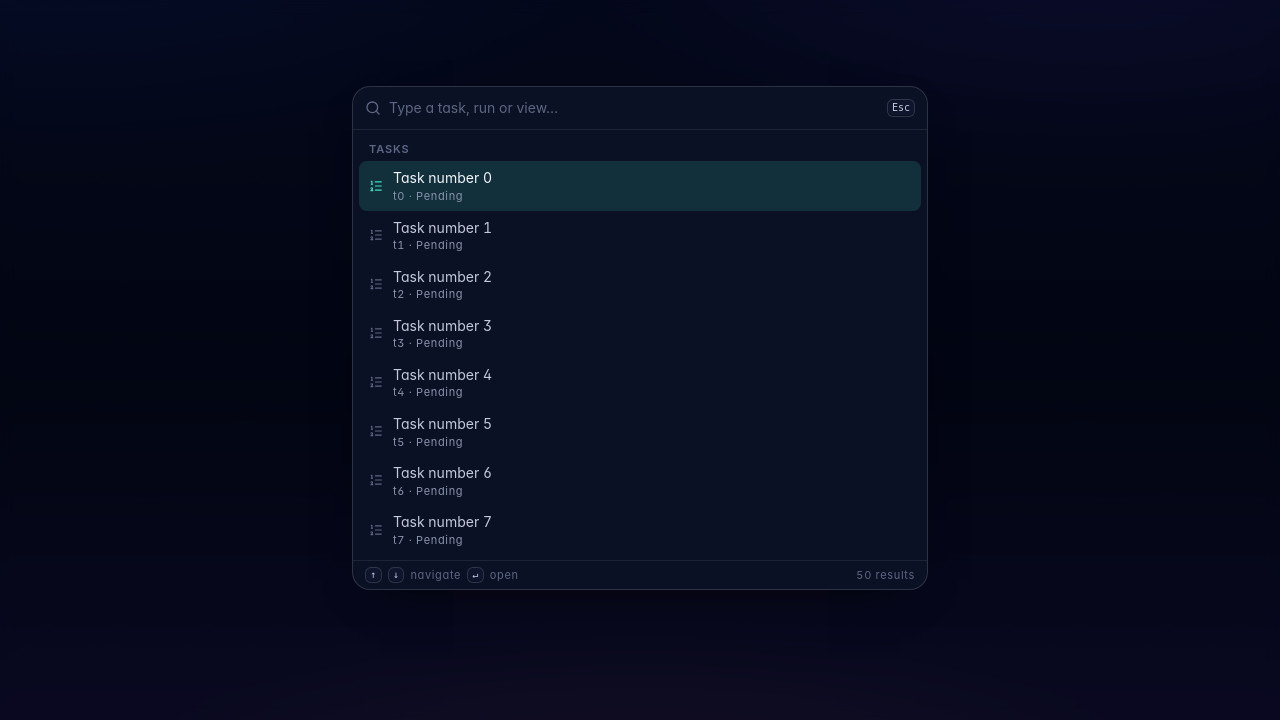
Test: features and search › a 500-task plan renders at most 50 rows and filters down to one
This screenshot has width=1280, height=720.
Check: the text with test id "palette-count" reads "50 results", box [856,568,915,583]
Type "number 499" into the dropdown at (634, 108), box [389,97,879,119]
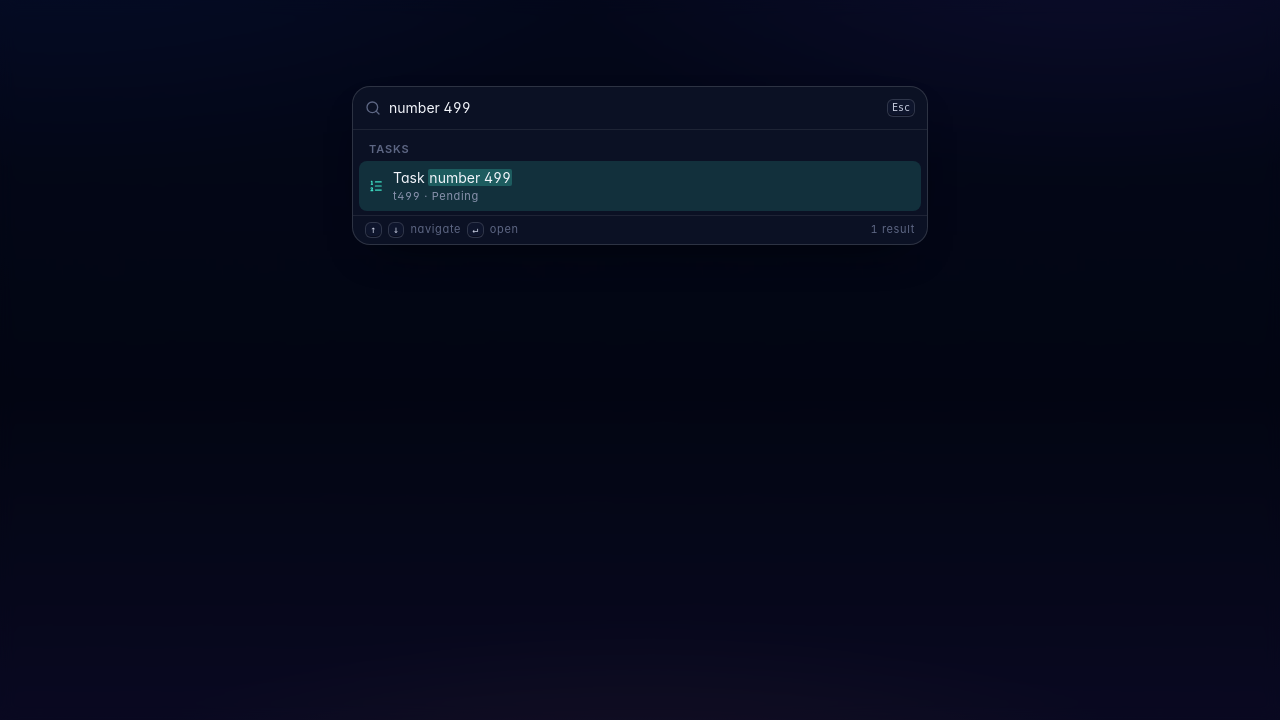
Check: the number of options is 1, box [359,162,921,211]
Check: the option shows "Task number 499", box [359,162,921,211]
